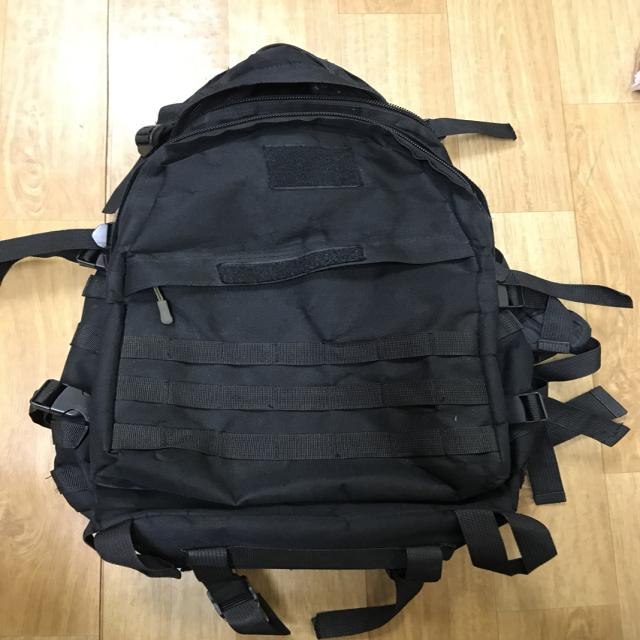backpack: (58, 59, 578, 607)
